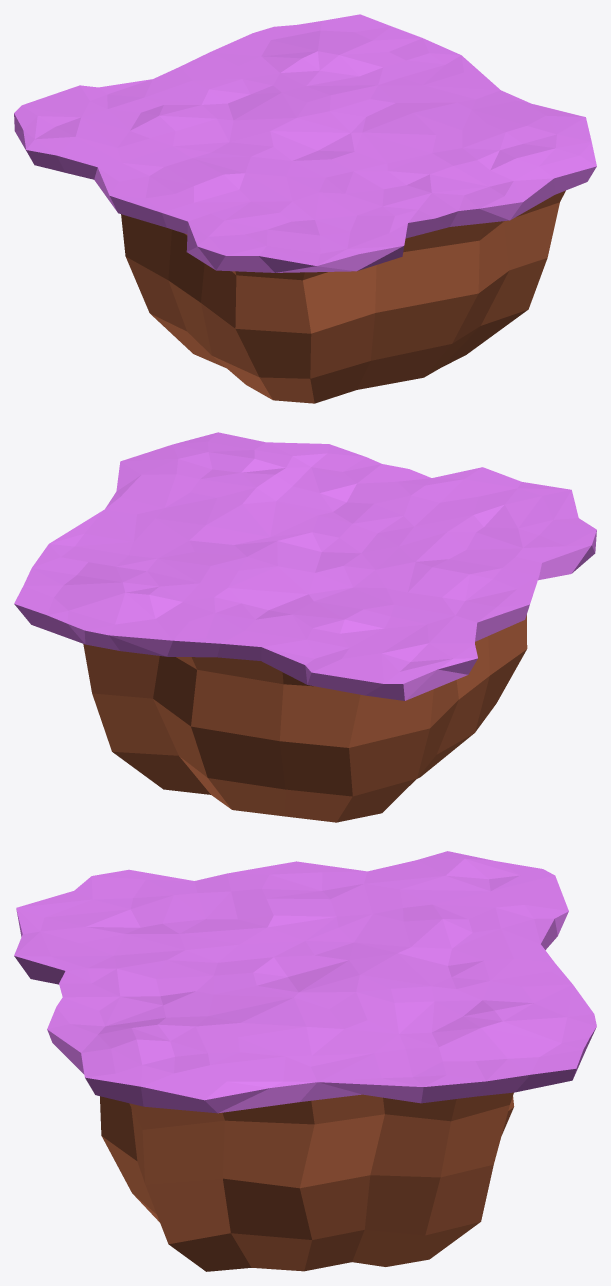
Rendered from terrenovioleta.fbx.
The picture shows the model from 3 angles, top to bottom: view 1: azimuth 30°, elevation 25°; view 2: azimuth 150°, elevation 25°; view 3: azimuth 270°, elevation 25°; orthographic projection. The views are drawn at different scales.
Visible parts, largest first — view 1: Pasto, Tierra; view 2: Pasto, Tierra; view 3: Pasto, Tierra.
Boxes of the visible parts, box(x1,y1,x2,y2) form: Pasto: box(14, 14, 596, 272); Tierra: box(121, 190, 565, 403); Pasto: box(14, 432, 596, 700); Tierra: box(83, 615, 527, 822); Pasto: box(14, 851, 596, 1113); Tierra: box(100, 1092, 514, 1271).
Size of the model in its own units: 27822 by 12598 by 27391.
